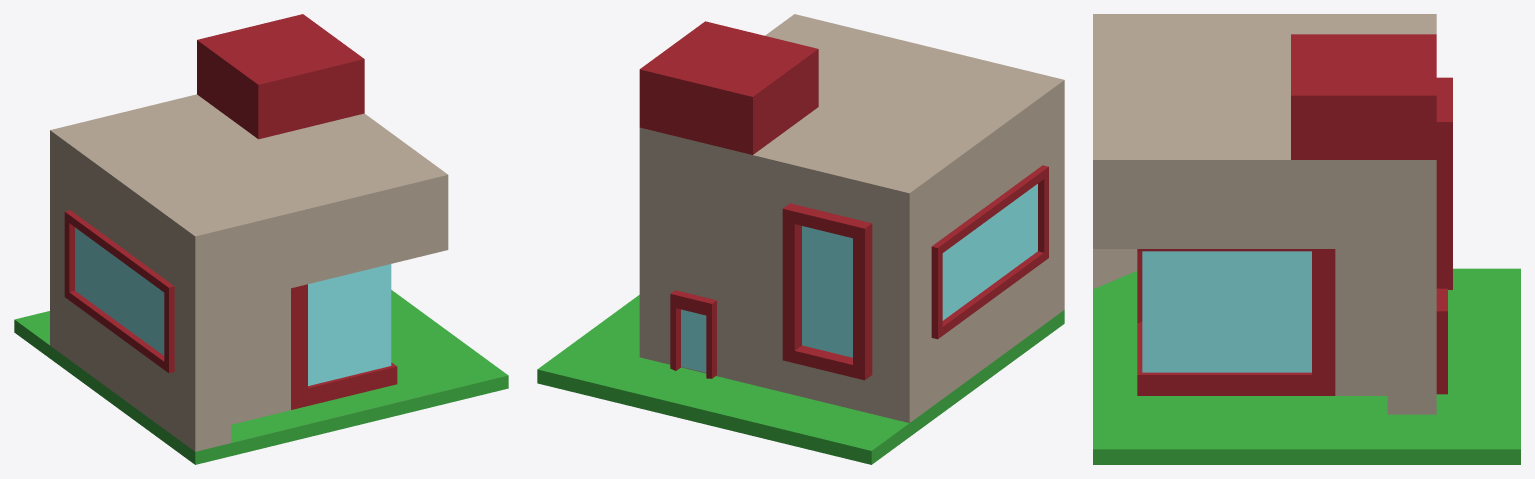
The model's file is Restaurant.fbx.
The picture shows the model from 3 angles, left to right: view 1: azimuth 30°, elevation 25°; view 2: azimuth 150°, elevation 25°; view 3: azimuth 270°, elevation 25°; orthographic projection. The views are drawn at different scales.
Visible parts, largest first — view 1: Cube.001; view 2: Cube.001; view 3: Cube.001.
Boxes of the visible parts, bbox=[...] form: Cube.001: bbox=[14, 14, 508, 464]; Cube.001: bbox=[537, 14, 1064, 464]; Cube.001: bbox=[1093, 14, 1520, 464].
Size of the model in its own units: 1019 by 863 by 1000.
